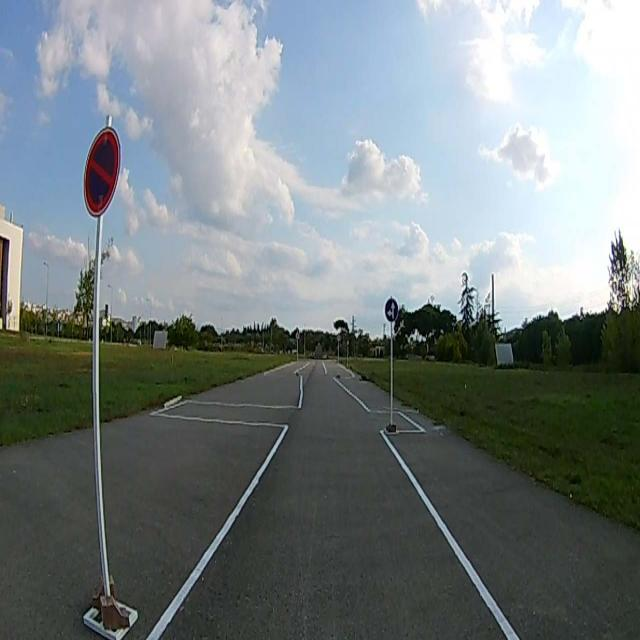ilerisol: (385, 298, 399, 322)
parkyasak: (85, 127, 120, 213)
